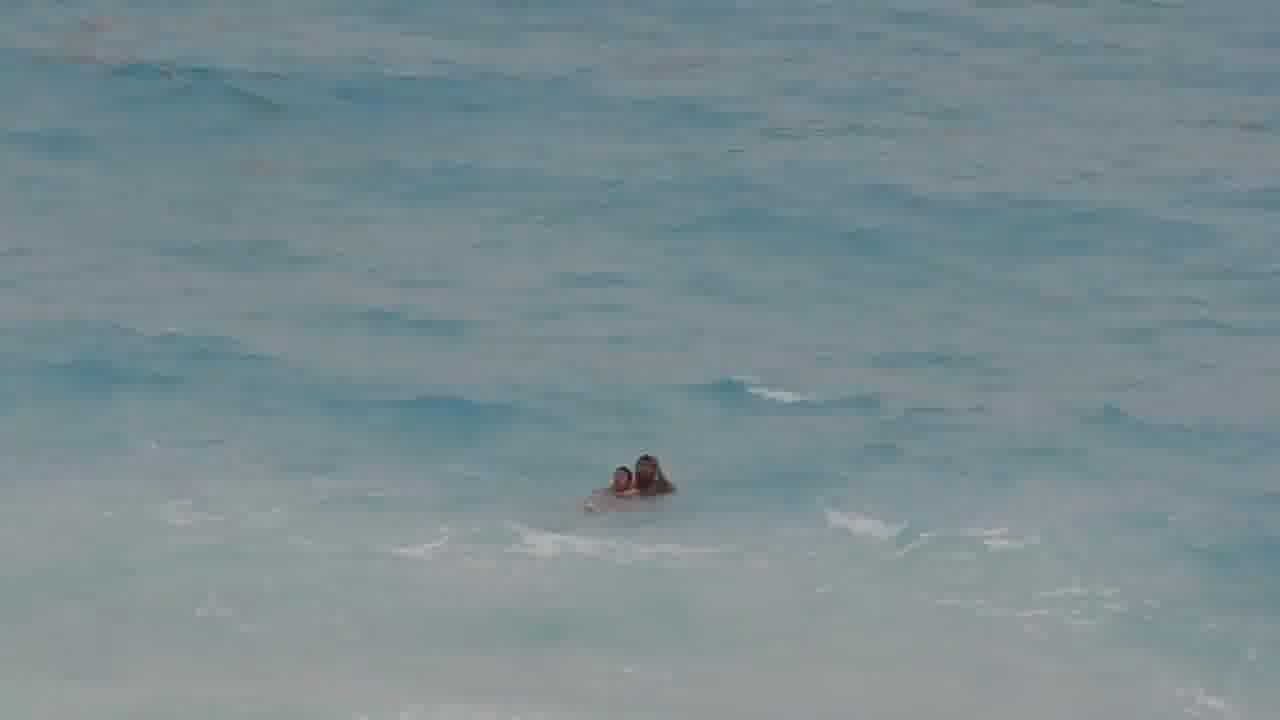swimmer: (629, 440, 684, 500), (603, 458, 627, 492)
